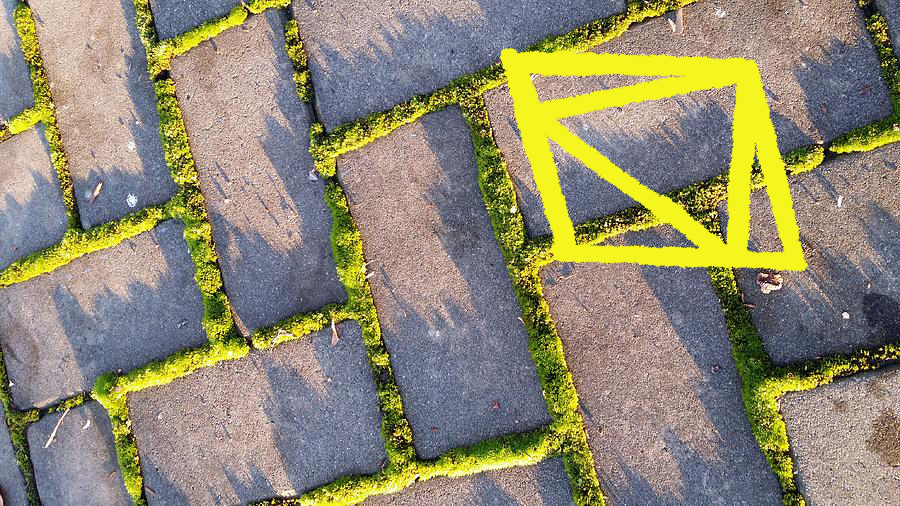marker: (497, 44, 817, 281)
